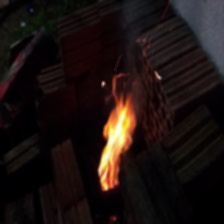fire: (86, 72, 148, 197)
